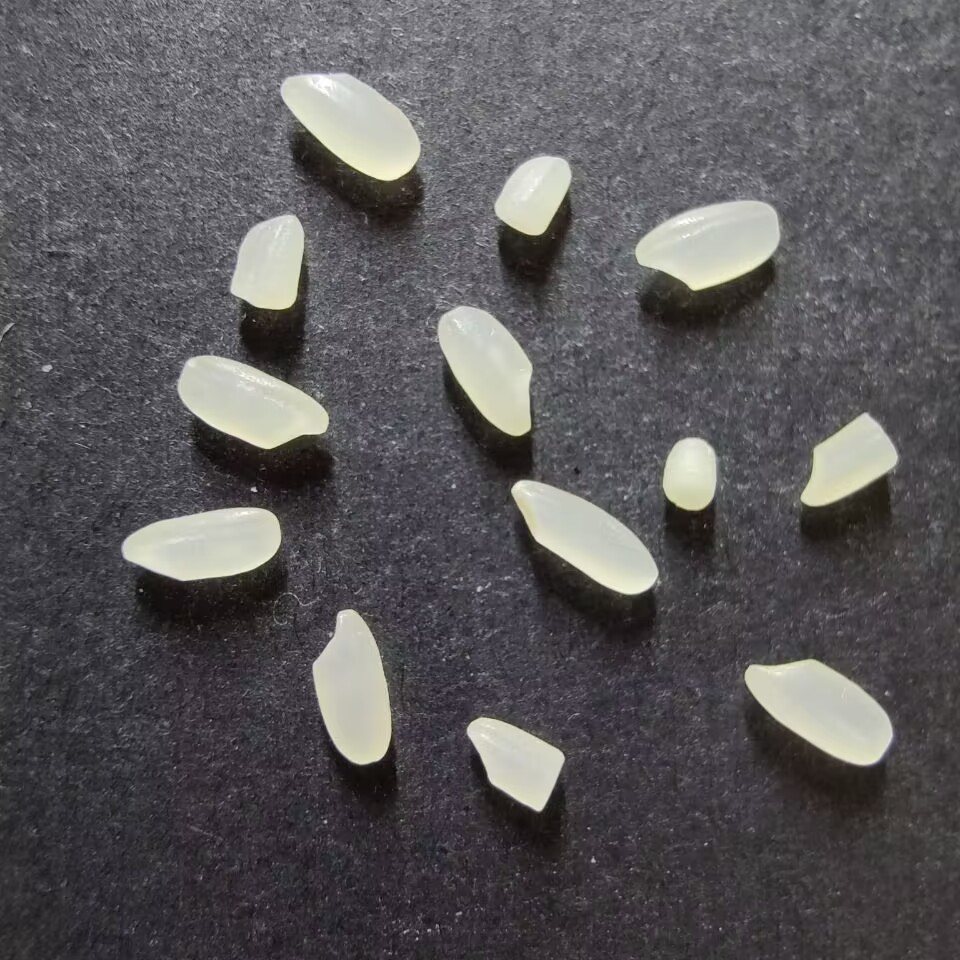broken: (465, 717, 566, 812), (799, 412, 899, 507), (228, 213, 304, 311), (493, 155, 572, 237), (661, 437, 717, 511)
rice: (510, 480, 659, 595), (743, 658, 893, 766), (279, 72, 420, 182), (176, 354, 329, 450), (634, 200, 780, 291), (436, 305, 534, 438), (311, 609, 391, 765), (121, 506, 281, 581)
